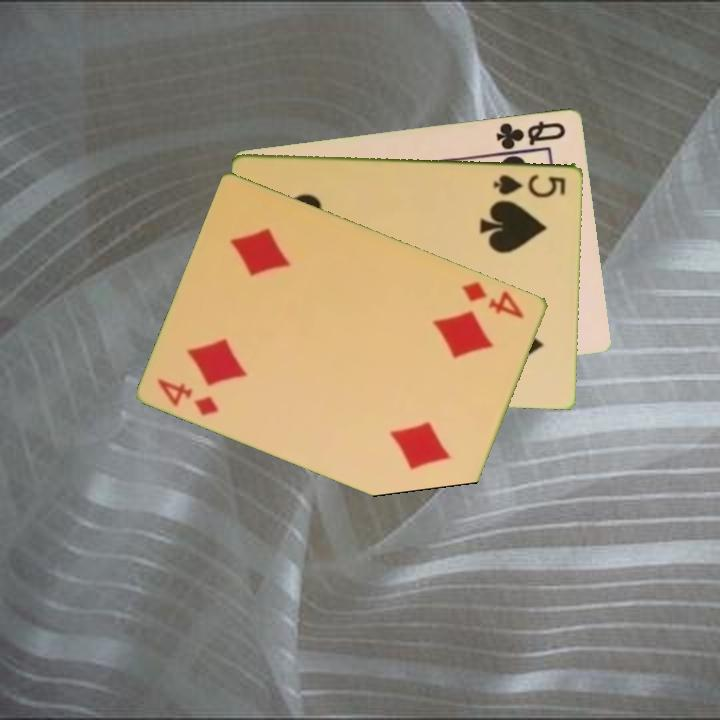4d: (153, 375, 222, 419), (458, 278, 528, 321)
5s: (490, 170, 569, 199)
Qc: (493, 117, 569, 152)
